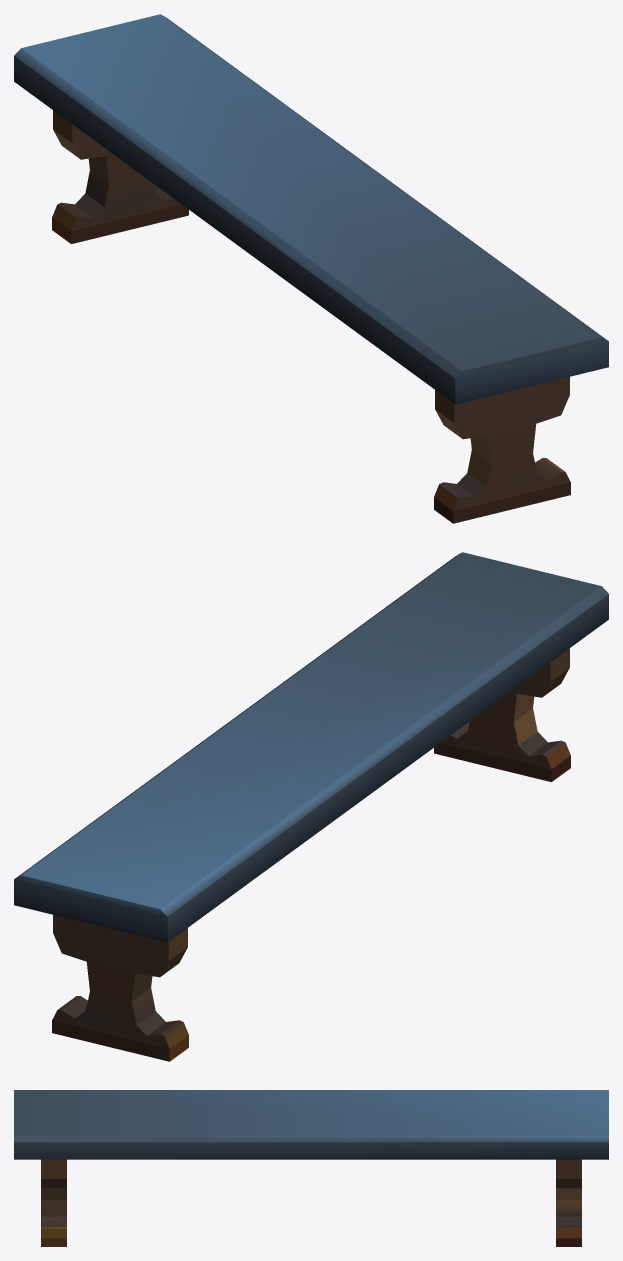
The model's file is Furniture_BenchA.fbx.
3 views of the same model, one above another, from view 1: azimuth 30°, elevation 25°; view 2: azimuth 150°, elevation 25°; view 3: azimuth 270°, elevation 25° (orthographic). The views are drawn at different scales.
Parts seen in each view (by area): view 1: Furniture_BenchA; view 2: Furniture_BenchA; view 3: Furniture_BenchA.
Boxes of the visible parts, <box> form: Furniture_BenchA: <box>14,14,608,523</box>; Furniture_BenchA: <box>14,552,608,1061</box>; Furniture_BenchA: <box>14,1090,608,1246</box>.
Size of the model in its own units: 50 by 52.85 by 249.
